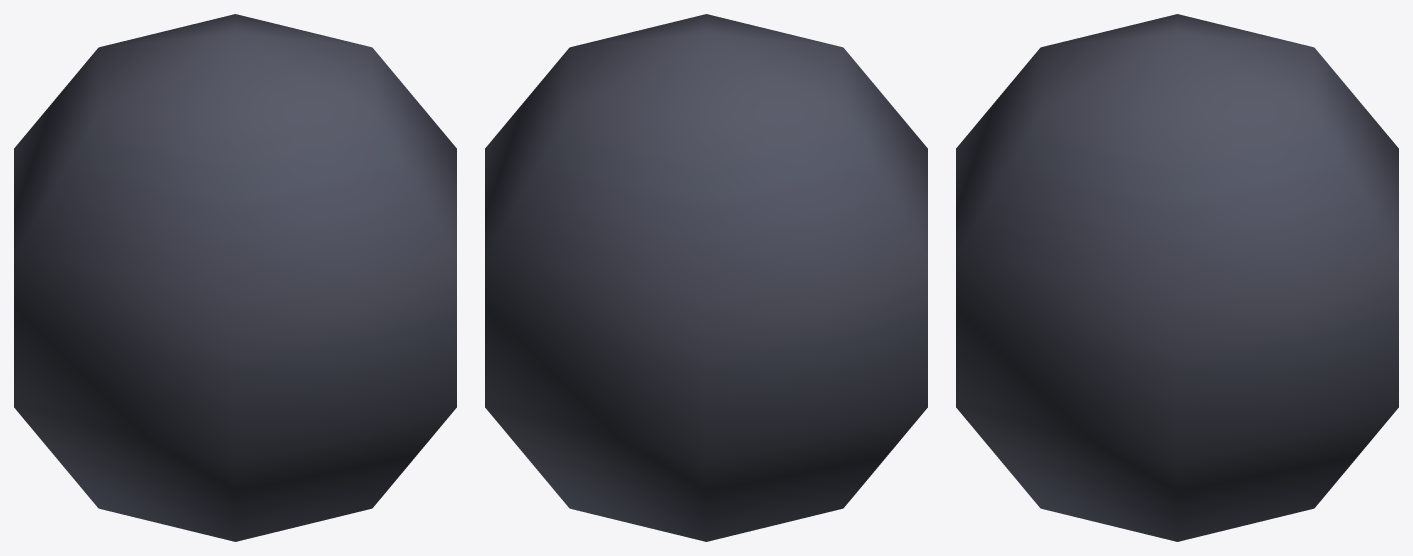
The model's file is cannon-ball.glb.
3 renders of one model, left to right at view 1: azimuth 30°, elevation 25°; view 2: azimuth 150°, elevation 25°; view 3: azimuth 270°, elevation 25°, orthographic.
Parts seen in each view (by area): view 1: cannon-ball; view 2: cannon-ball; view 3: cannon-ball.
Part boxes in pixels (x1,y1,x2,y2): cannon-ball: (14,14,456,541); cannon-ball: (485,14,927,541); cannon-ball: (956,14,1398,541).
Size of the model in its own units: 0.6372 by 0.67 by 0.5518.
Materials: 1 (1 with a texture image).
